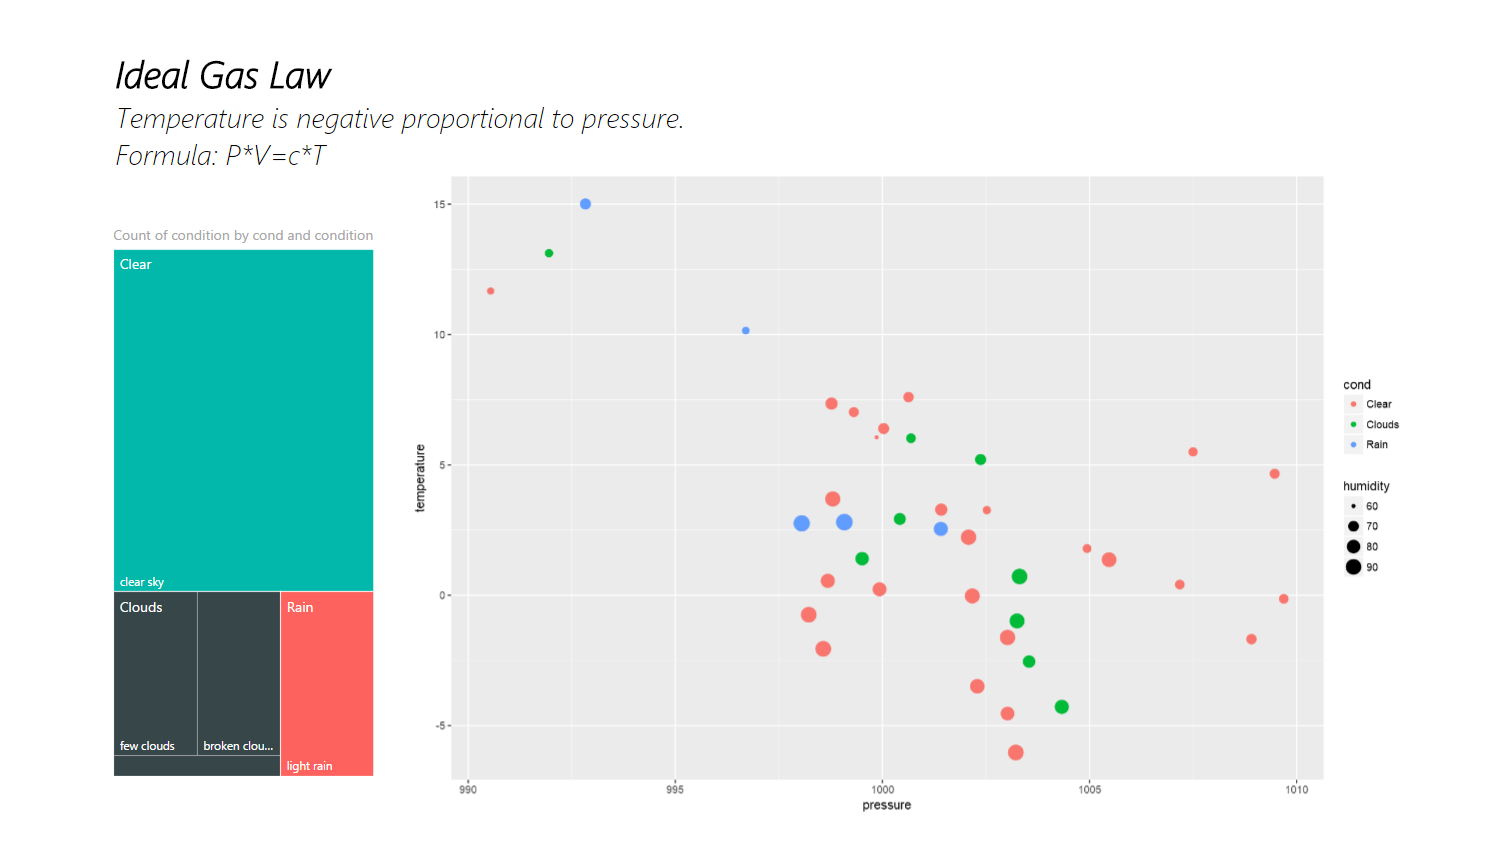

The dashboard page shown, as its layout file describes it:
{"tool":"powerbi","page":{"name":"r script test","canvas":[1280,720],"ordinal":2},"visuals":[{"type":"scriptVisual","fields":{"Values":["weatherData.cond","weatherData.ground_level","weatherData.humidity","weatherData.pressure","weatherData.sea_level","weatherData.temperature","weatherData.wind_degree","weatherData.wind_speed"]},"box":[347.9,128.8,866.4,579],"z":1},{"type":"textbox","box":[97.7,25.1,547.1,134.8],"z":2},{"type":"treemap","fields":{"Group":["weatherData.cond"],"Details":["weatherData.condition"],"Values":["CountNonNull(weatherData.condition)"]},"box":[96,162.9,232.3,493.7],"z":6}]}

Visuals, with their boxes in screenshot pixels (x1, y1, x2, y2), scaled from the page's 1280x720 canvas onto the 1487x842 screenshot:
scriptVisual - weatherData.cond x weatherData.ground_level: box(404, 151, 1411, 828)
textbox: box(113, 29, 749, 187)
treemap - weatherData.cond x weatherData.condition: box(112, 191, 381, 768)
